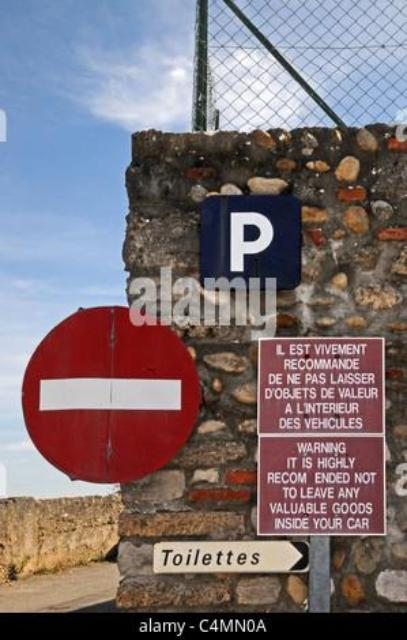B2: (19, 304, 201, 484)
